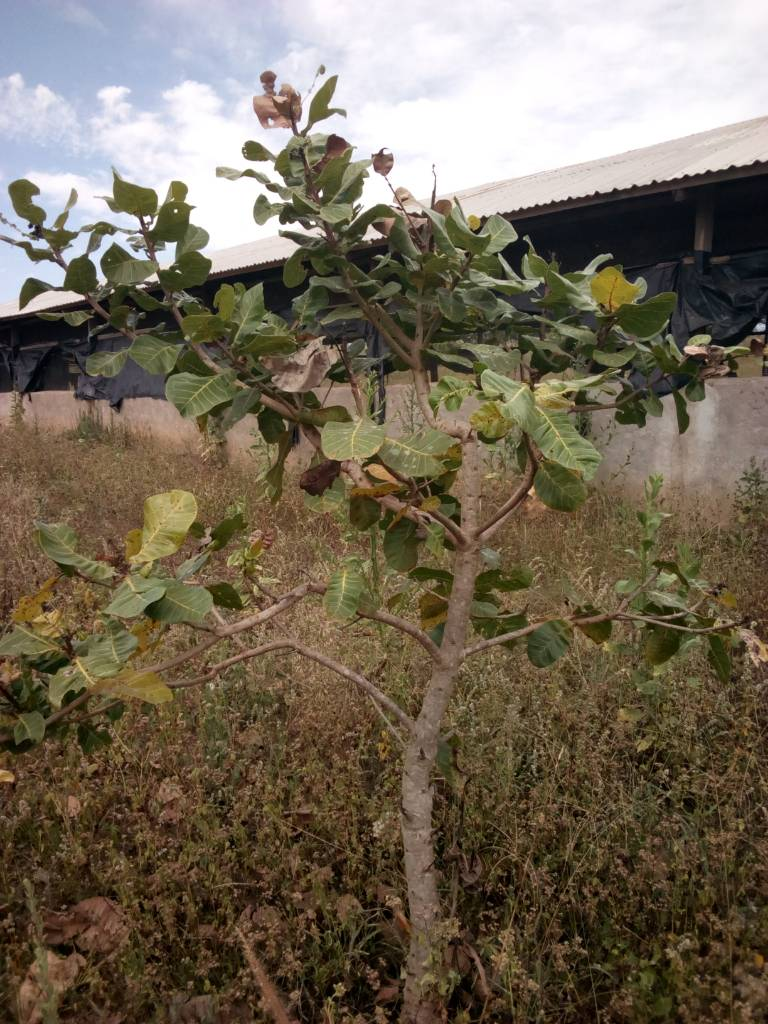Dessèchement des bourgeons: (716, 600, 767, 661), (294, 456, 353, 488)
